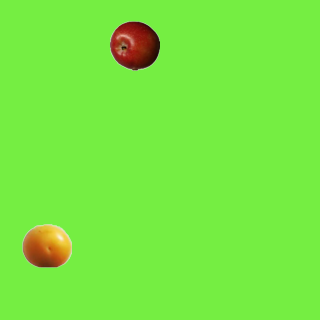Apple Braeburn: (109, 20, 159, 70)
Cherry Wax Yellow: (21, 220, 71, 270)
